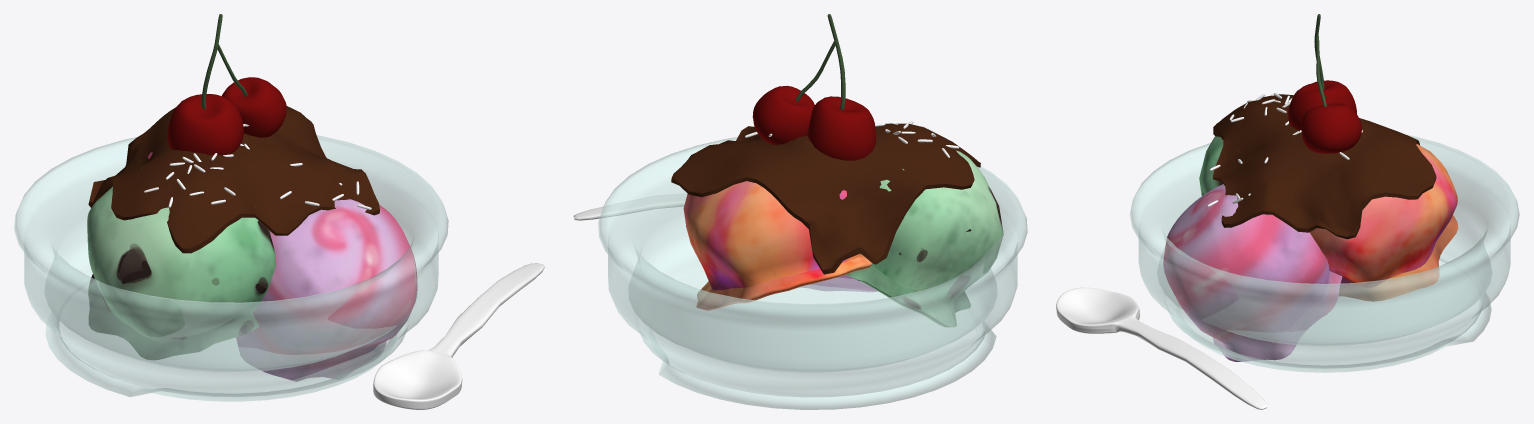
File: ice_cream.glb
3 renders of one model, left to right at view 1: azimuth 30°, elevation 25°; view 2: azimuth 150°, elevation 25°; view 3: azimuth 270°, elevation 25°, orthographic. The views are drawn at different scales.
Parts seen in each view (by area): view 1: ice_cream_0001:pCylinder1_ice_cream_0001:aiStandardSurface4_, ice_cream_0001:pCube1, ice_cream_0001:pCube2, ice_cream_0001:pCube7, ice_cream_0001:pCube6, ice_cream_0001:pSphere1 (×2); view 2: ice_cream_0001:pCylinder1_ice_cream_0001:aiStandardSurface4_, ice_cream_0001:pCube7, ice_cream_0001:pCube2, ice_cream_0001:pCube3, ice_cream_0001:pSphere1 (×2), ice_cream_0001:pCube6, ice_cream_0001:pCube1, ice_cream_0001:pCylinder17_ice_cream_0001:aiStandardSurface9; view 3: ice_cream_0001:pCylinder1_ice_cream_0001:aiStandardSurface4_, ice_cream_0001:pCube1, ice_cream_0001:pCube7, ice_cream_0001:pCube3, ice_cream_0001:pCube6, ice_cream_0001:pSphere1 (×2), ice_cream_0001:pCube2.
Part boxes in pixels (x1,y1,x2,y2): ice_cream_0001:pCylinder1_ice_cream_0001:aiStandardSurface4_: (14, 135, 448, 401); ice_cream_0001:pCube1: (236, 199, 417, 381); ice_cream_0001:pCube2: (87, 168, 275, 359); ice_cream_0001:pCube7: (88, 106, 379, 253); ice_cream_0001:pCube6: (373, 263, 544, 409); ice_cream_0001:pSphere1 (×2): (168, 77, 286, 155); ice_cream_0001:pCylinder1_ice_cream_0001:aiStandardSurface4_: (598, 137, 1027, 409); ice_cream_0001:pCube7: (671, 123, 980, 274); ice_cream_0001:pCube2: (846, 150, 1003, 327); ice_cream_0001:pCube3: (683, 181, 872, 310); ice_cream_0001:pSphere1 (×2): (752, 85, 876, 160); ice_cream_0001:pCube6: (573, 193, 687, 220); ice_cream_0001:pCube1: (800, 275, 877, 291); ice_cream_0001:pCylinder17_ice_cream_0001:aiStandardSurface9: (827, 14, 845, 110); ice_cream_0001:pCylinder1_ice_cream_0001:aiStandardSurface4_: (1129, 135, 1519, 372); ice_cream_0001:pCube1: (1163, 184, 1342, 361); ice_cream_0001:pCube7: (1213, 94, 1436, 239); ice_cream_0001:pCube3: (1310, 144, 1458, 301); ice_cream_0001:pCube6: (1056, 287, 1267, 409); ice_cream_0001:pSphere1 (×2): (1288, 80, 1361, 153); ice_cream_0001:pCube2: (1199, 136, 1223, 195).
Size of the model in its own units: 7.44 by 5.15 by 7.16.
Materials: 9 (3 with a texture image).
